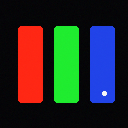0 point: (102, 91, 106, 95)
